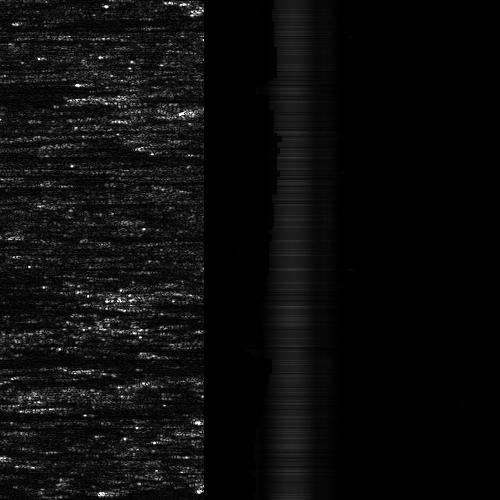rock: (37, 92, 162, 103), (35, 199, 98, 206)
shadow: (0, 301, 110, 312), (100, 92, 191, 103), (0, 180, 101, 189), (67, 199, 157, 206)
